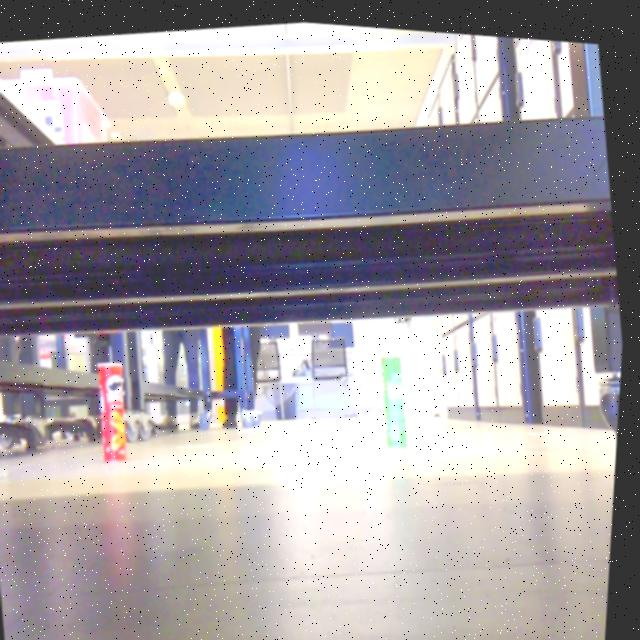greenpringles: (362, 326, 435, 460)
redpringles: (82, 328, 155, 479)
